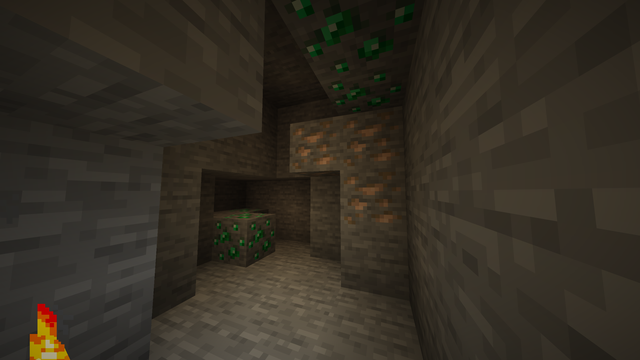emerald: (274, 1, 417, 108), (212, 206, 276, 265)
iron: (289, 108, 405, 227)
